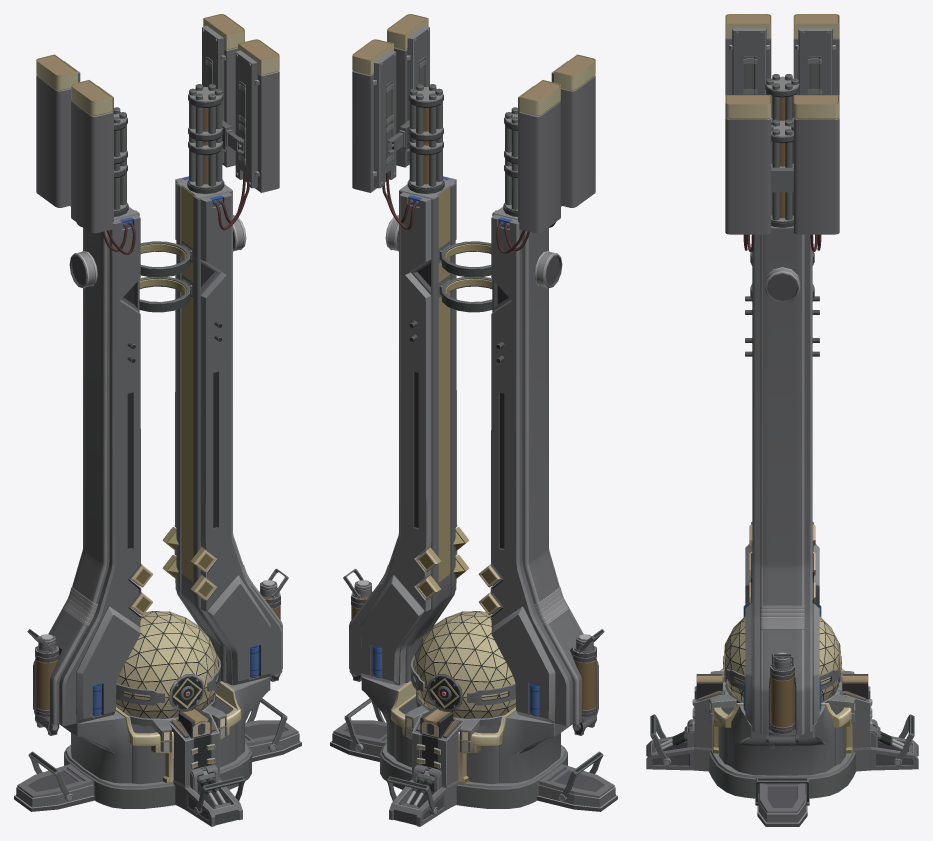
File: 6_2Antenna.fbx
The picture shows the model from 3 angles, left to right: view 1: azimuth 30°, elevation 25°; view 2: azimuth 150°, elevation 25°; view 3: azimuth 270°, elevation 25°; orthographic projection.
Visible parts, largest first — view 1: Cube.055, Cube.054, Cube.009, Cube.056, Icosphere, Cube.070, Cube.007, Cube.067, Cylinder.032, Cylinder.012, Cylinder.014, Cube.071 (+16 smaller); view 2: Cube.055, Cube.054, Cube.009, Cube.056, Icosphere, Cube.070, Cube.007, Cube.067, Cylinder.032, Cylinder.012, Cylinder.014, Cube.071 (+16 smaller); view 3: Cube.054, Cube.009, Cube.055, Cube.070, Cube.067, Cube.008, Cylinder.012, Cube.056, Icosphere, Cube.007, Cylinder.032, Cylinder.014 (+12 smaller).
Part boxes in pixels (left/top/right/bottom): Cube.055: left=35, top=178, right=282, bottom=725; Cube.054: left=33, top=180, right=282, bottom=724; Cube.009: left=36, top=14, right=279, bottom=233; Cube.056: left=76, top=575, right=270, bottom=723; Icosphere: left=116, top=611, right=218, bottom=718; Cube.070: left=59, top=676, right=270, bottom=783; Cube.007: left=14, top=720, right=301, bottom=811; Cube.067: left=64, top=25, right=257, bottom=222; Cylinder.032: left=114, top=84, right=222, bottom=209; Cylinder.012: left=64, top=743, right=251, bottom=808; Cylinder.014: left=34, top=580, right=280, bottom=721; Cube.071: left=115, top=681, right=240, bottom=782; Cube.055: left=349, top=178, right=596, bottom=725; Cube.054: left=349, top=180, right=598, bottom=724; Cube.009: left=352, top=14, right=595, bottom=233; Cube.056: left=361, top=575, right=555, bottom=723; Icosphere: left=413, top=611, right=515, bottom=718; Cube.070: left=361, top=676, right=572, bottom=783; Cube.007: left=330, top=720, right=617, bottom=811; Cube.067: left=374, top=25, right=567, bottom=222; Cylinder.032: left=409, top=84, right=517, bottom=209; Cylinder.012: left=380, top=743, right=567, bottom=808; Cylinder.014: left=351, top=580, right=598, bottom=721; Cube.071: left=391, top=681, right=516, bottom=782; Cube.054: left=760, top=226, right=804, bottom=734; Cube.009: left=725, top=14, right=839, bottom=234; Cube.055: left=751, top=234, right=813, bottom=731; Cube.070: left=730, top=705, right=834, bottom=775; Cube.067: left=732, top=28, right=832, bottom=94; Cube.008: left=646, top=736, right=918, bottom=771; Cylinder.012: left=709, top=751, right=855, bottom=798; Cube.056: left=745, top=544, right=819, bottom=725; Icosphere: left=725, top=616, right=839, bottom=701; Cube.007: left=757, top=783, right=807, bottom=826; Cylinder.032: left=766, top=74, right=798, bottom=220; Cylinder.014: left=769, top=652, right=795, bottom=736.
Size of the model in its own units: 535 by 1351 by 474.
